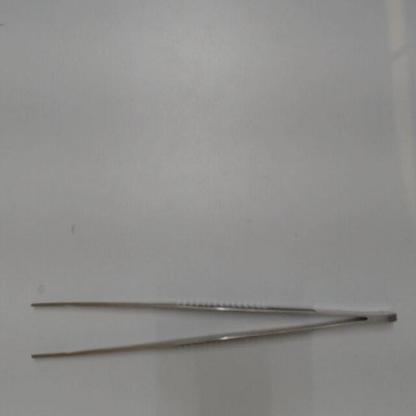DeBakey Dissector: (13, 278, 414, 377)
